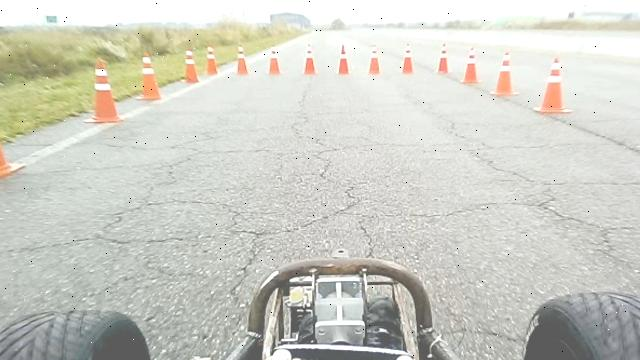red cone: (84, 58, 124, 123), (534, 57, 573, 114), (134, 51, 163, 101), (490, 50, 520, 97), (461, 45, 482, 84), (181, 48, 199, 83), (302, 42, 318, 75), (266, 44, 282, 75), (234, 44, 250, 74), (336, 42, 350, 75), (436, 40, 450, 73), (367, 44, 381, 74), (205, 45, 219, 75), (401, 42, 414, 74)
